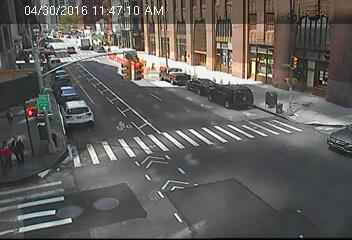neg: (276, 74, 294, 98), (257, 88, 274, 111), (310, 48, 327, 71), (215, 45, 231, 66), (285, 53, 300, 72), (122, 46, 136, 64), (246, 41, 260, 59), (147, 58, 156, 71)
pos: (7, 134, 30, 164), (14, 61, 25, 76)
